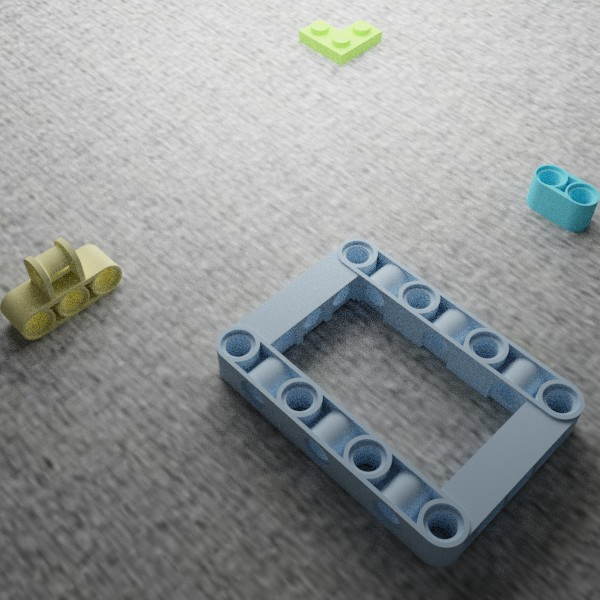lego: (216, 237, 584, 566), (0, 237, 122, 340), (526, 164, 600, 231), (299, 19, 382, 65)
